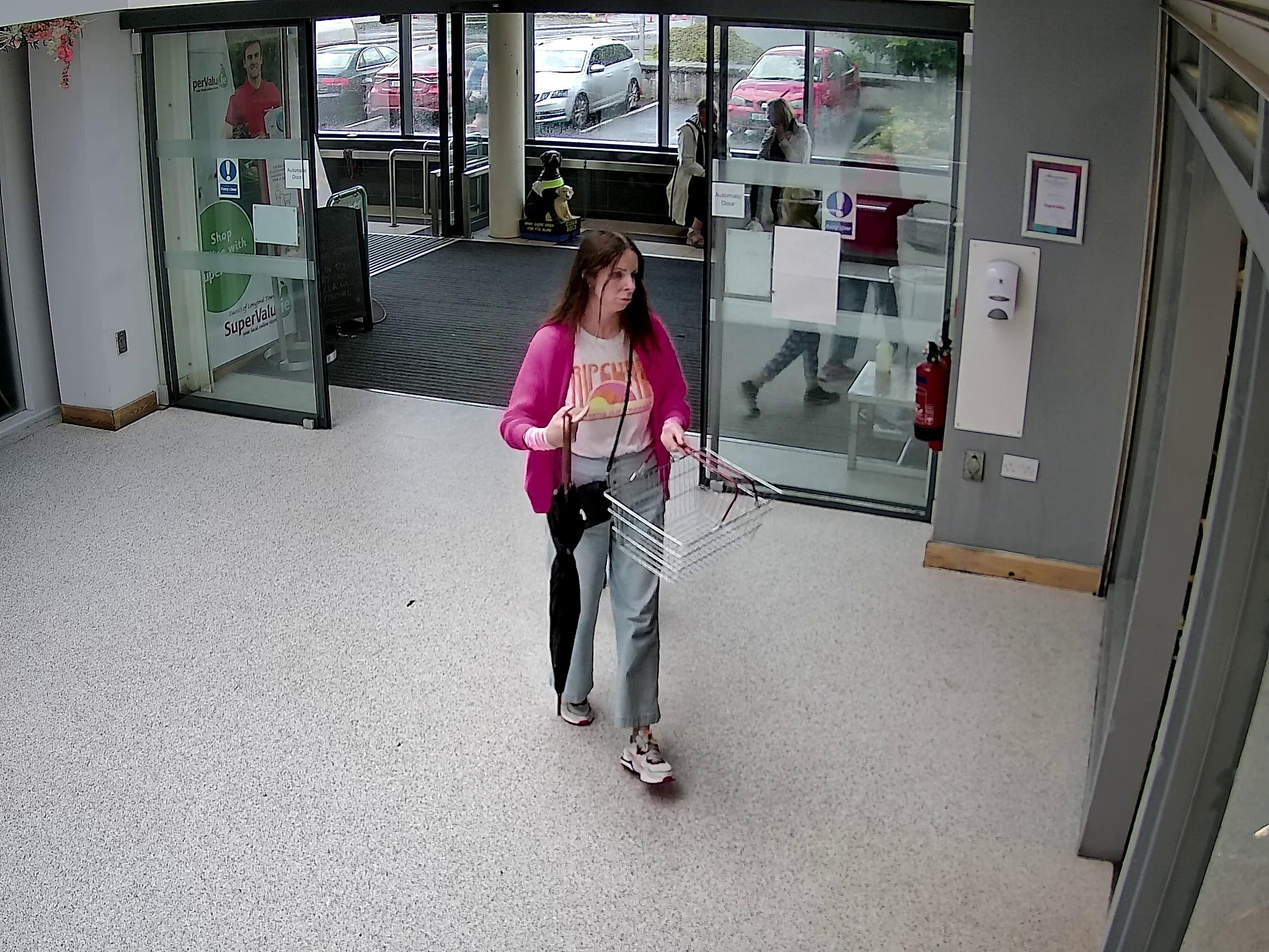empty-basket: (605, 448, 781, 584)
person: (501, 230, 689, 789)
person-with-empty-basket-trolly: (502, 229, 781, 793)
